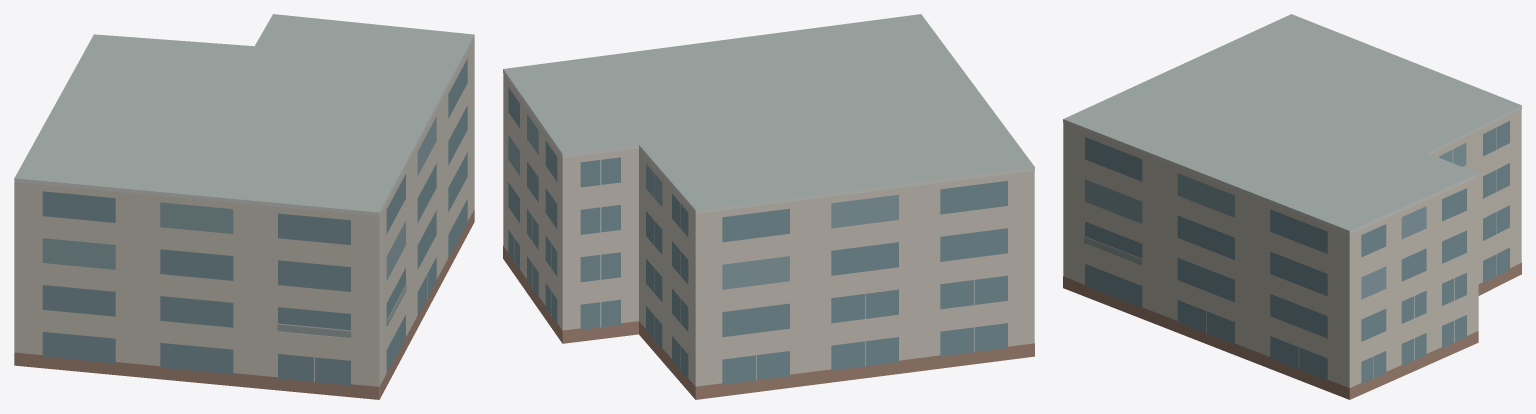
File: survey-upis-32993237.glb
3 views of the same model, side by side, from view 1: azimuth 30°, elevation 25°; view 2: azimuth 150°, elevation 25°; view 3: azimuth 270°, elevation 25° (orthographic). The views are drawn at different scales.
Visible parts, largest first — view 1: survey-upis-32993237.tmp; view 2: survey-upis-32993237.tmp; view 3: survey-upis-32993237.tmp.
Part boxes in pixels (left/top/right/bottom): survey-upis-32993237.tmp: left=14, top=14, right=474, bottom=399; survey-upis-32993237.tmp: left=503, top=14, right=1034, bottom=399; survey-upis-32993237.tmp: left=1063, top=14, right=1521, bottom=399.
Size of the model in its own units: 31.8 by 11.55 by 28.41.
